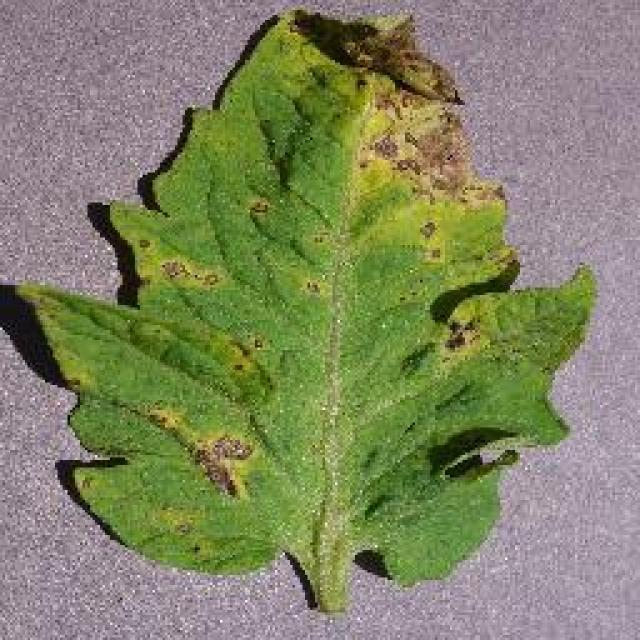Tomato Septoria spot leaf: (26, 8, 596, 582)
